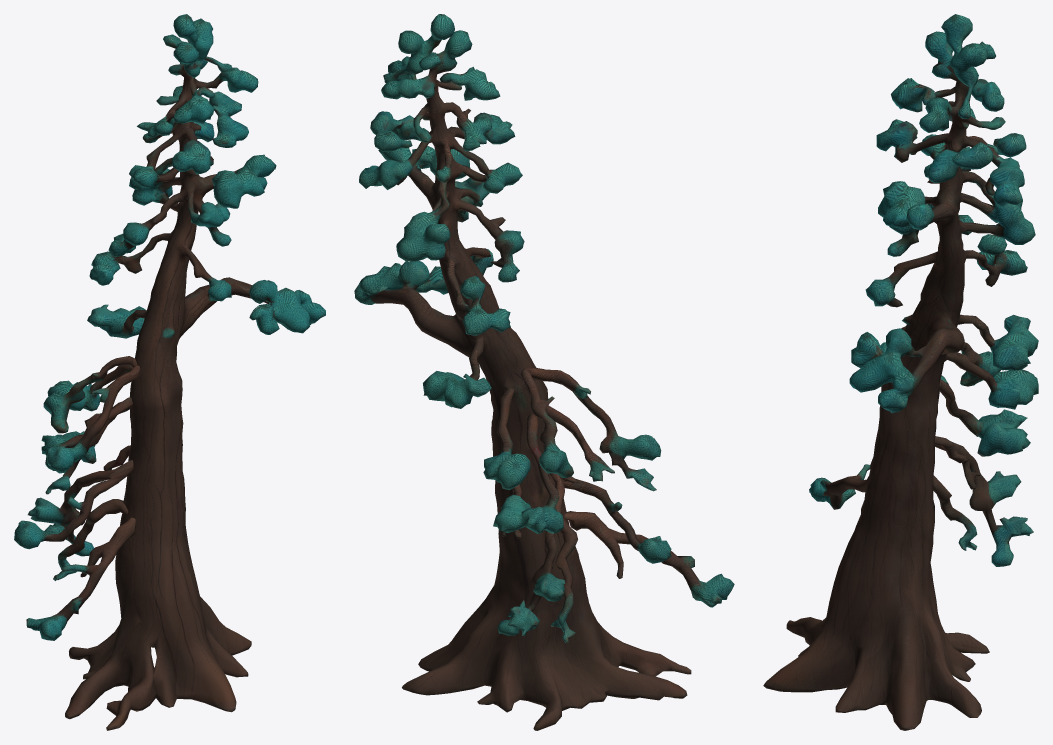
File: forest_tree_twisted_pine.glb
3 views of the same model, side by side, from view 1: azimuth 30°, elevation 25°; view 2: azimuth 150°, elevation 25°; view 3: azimuth 270°, elevation 25° (orthographic). The views are drawn at different scales.
Size of the model in its own units: 1.01 by 1.91 by 0.6849.
1 material, 1 textured.
